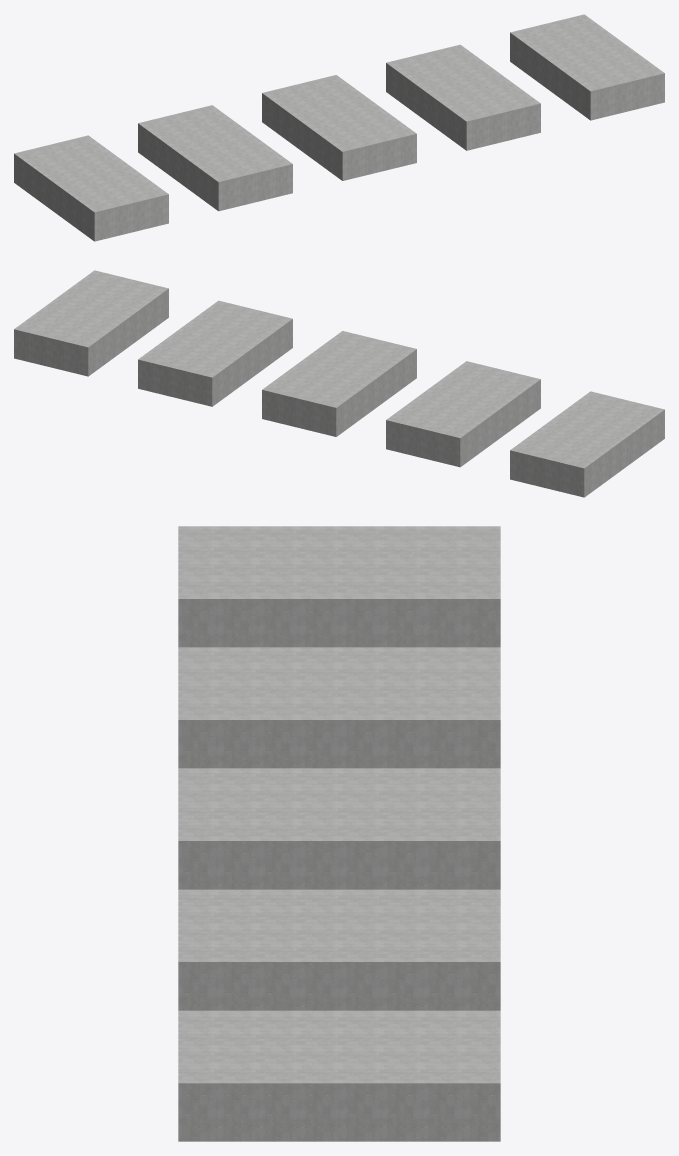
The model's file is SpaceStation_Floor.fbx.
The picture shows the model from 3 angles, top to bottom: view 1: azimuth 30°, elevation 25°; view 2: azimuth 150°, elevation 25°; view 3: azimuth 270°, elevation 25°; orthographic projection. The views are drawn at different scales.
Visible parts, largest first — view 1: SpaceStation_Floor; view 2: SpaceStation_Floor; view 3: SpaceStation_Floor.
Boxes of the visible parts, x1,y1,x2,y2 form: SpaceStation_Floor: [14, 14, 664, 241]; SpaceStation_Floor: [14, 270, 664, 497]; SpaceStation_Floor: [178, 526, 500, 1141].
Bounding box in the file's own units: 2044 × 100 × 500.
